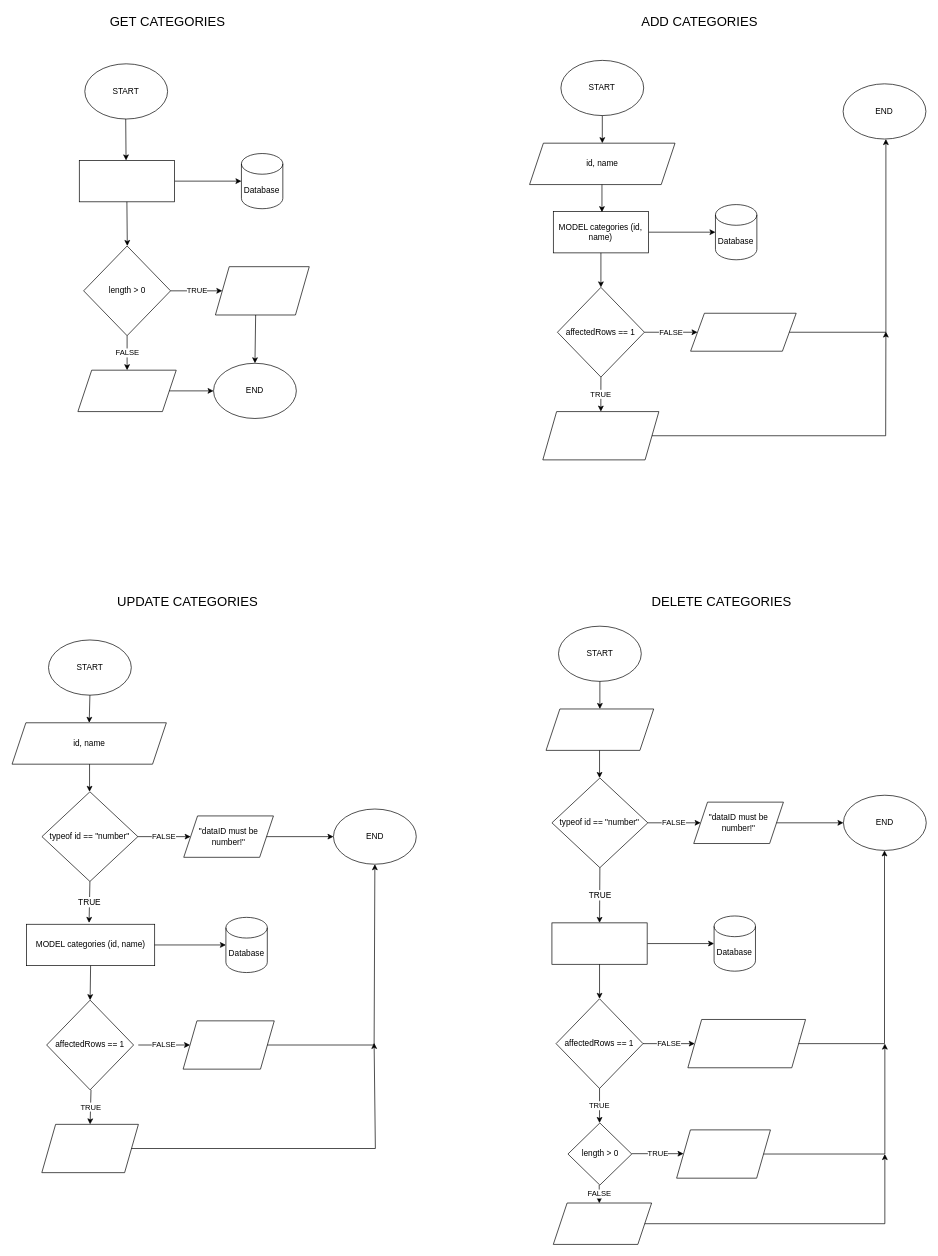
The diagram is 938 pixels wide and 1256 high, and some of its shapes have lost their labels. The shapes that lost their labels are listed below. From the top down, each one's centre as x and y in pixels, then its label:
(x=127, y=181): MODEL categories
(x=262, y=290): "Vehicles Category Success"
(x=743, y=332): "Category already on list"
(x=126, y=390): "Vehicles Category not Found"
(x=600, y=435): "Successfully add category"
(x=599, y=729): id
(x=599, y=943): MODEL categories (is)
(x=228, y=1044): "Category with id not found"
(x=746, y=1043): "Can't find category with id"
(x=89, y=1148): "Successfully update category with id"
(x=723, y=1153): "DELETE category success"
(x=602, y=1223): "category failed to Delete"
